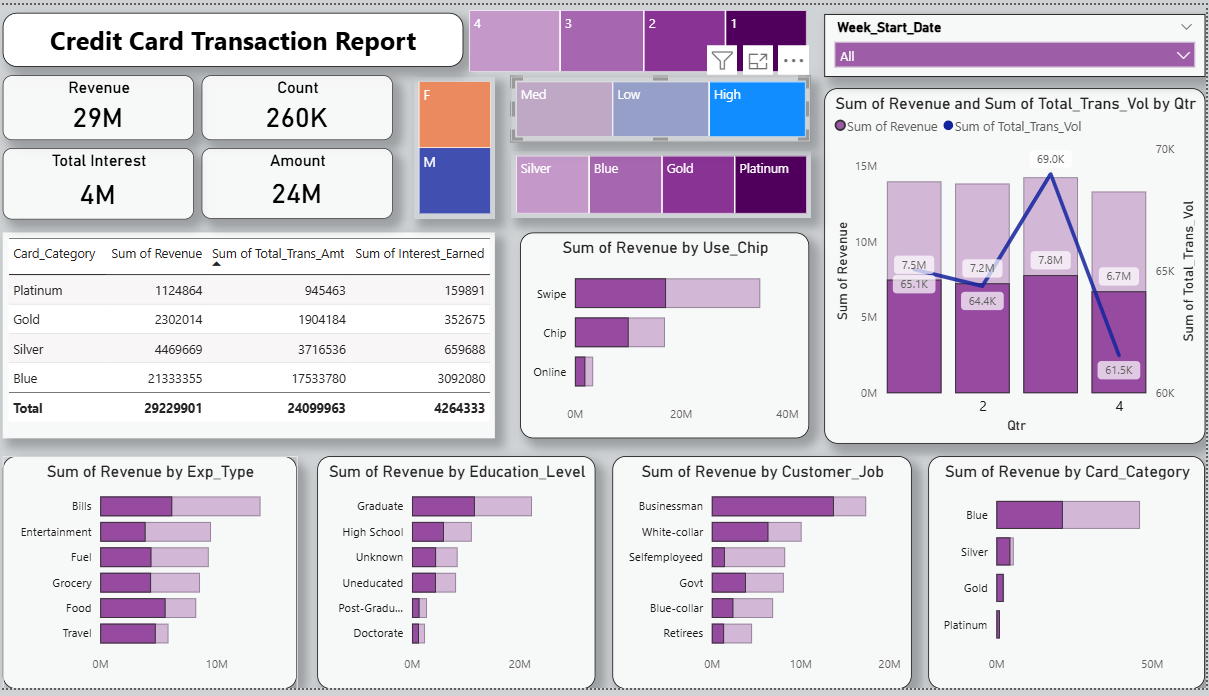

What the dashboard file says about the page in this screenshot:
{"tool":"powerbi","page":{"name":"Custmer1","canvas":[1280,720],"ordinal":0},"visuals":[{"type":"textbox","box":[12.9,8.6,485.7,57.1],"z":0},{"type":"lineStackedColumnComboChart","fields":{"Y":["Sum(credit_card_detail.Revenue)"],"Y2":["Sum(credit_card_detail.Total_Trans_Vol)"],"Category":["credit_card_detail.Qtr"]},"box":[878.1,87.8,401.6,374.5],"z":1000},{"type":"barChart","fields":{"Y":["Sum(credit_card_detail.Revenue)"],"Category":["credit_card_detail.Exp_Type"]},"box":[12.9,475.2,309.9,245.3],"z":2000},{"type":"barChart","fields":{"Y":["Sum(credit_card_detail.Revenue)"],"Category":["customer_detail.Education_Level"]},"box":[343.5,475.2,293.1,245.3],"z":3000},{"type":"barChart","fields":{"Y":["Sum(credit_card_detail.Revenue)"],"Category":["customer_detail.Customer_Job"]},"box":[654.7,475.2,315.1,245.3],"z":4000},{"type":"barChart","fields":{"Y":["Sum(credit_card_detail.Revenue)"],"Category":["credit_card_detail.Card_Category"]},"box":[987.8,475.2,291.8,245.3],"z":5000},{"type":"barChart","fields":{"Y":["Sum(credit_card_detail.Revenue)"],"Category":["credit_card_detail.Use_Chip"]},"box":[557.8,240.2,304.7,216.9],"z":6000},{"type":"tableEx","fields":{"Values":["credit_card_detail.Card_Category","Sum(credit_card_detail.Revenue)","Sum(credit_card_detail.Total_Trans_Amt)","Sum(credit_card_detail.Interest_Earned)"]},"box":[12.9,240,518.6,217.1],"z":7000},{"type":"slicer","fields":{"Values":["credit_card_detail.Week_Start_Date"]},"box":[878.1,9,401.6,65.9],"z":8000},{"type":"treemap","fields":{"Group":["credit_card_detail.Qtr"],"Values":["Avg(credit_card_detail.Client_Num)"]},"box":[498.4,0,365.4,74.9],"z":9000},{"type":"treemap","fields":{"Group":["customer_detail.Gender"],"Values":["Avg(credit_card_detail.Client_Num)"]},"box":[445.5,74.9,86.5,149.8],"z":10000},{"type":"treemap","fields":{"Group":["credit_card_detail.Card_Category"],"Values":["Avg(credit_card_detail.Client_Num)"]},"box":[547.5,153.7,316.4,71],"z":11000},{"type":"treemap","fields":{"Group":["customer_detail.IncomeGroup"],"Values":["Avg(credit_card_detail.Client_Num)"]},"box":[547.5,74.9,315.1,68.4],"z":12000},{"type":"card","title":"Revenue","fields":{"Values":["Sum(credit_card_detail.Revenue)"]},"box":[12.9,74.3,201.4,68.6],"z":13000},{"type":"card","title":"Total Interest","fields":{"Values":["Sum(credit_card_detail.Interest_Earned)"]},"box":[12.9,150,201.4,75.7],"z":14000},{"type":"card","title":"Count","fields":{"Values":["Sum(credit_card_detail.Total_Trans_Vol)"]},"box":[221.4,74.3,201.4,68.6],"z":15000},{"type":"card","title":"Amount","fields":{"Values":["Sum(credit_card_detail.Total_Trans_Amt)"]},"box":[221.4,150,201.4,74.3],"z":16000}]}

Visuals, with their boxes in screenshot pixels (x1, y1, x2, y2), scaled from the page's 1280x720 canvas onto the 1209x696 screenshot:
textbox: bbox=[12, 8, 471, 64]
lineStackedColumnComboChart - Sum(credit_card_detail.Revenue) x Sum(credit_card_detail.Total_Trans_Vol): bbox=[829, 85, 1208, 447]
barChart - Sum(credit_card_detail.Revenue) x credit_card_detail.Exp_Type: bbox=[12, 459, 305, 695]
barChart - Sum(credit_card_detail.Revenue) x customer_detail.Education_Level: bbox=[324, 459, 601, 695]
barChart - Sum(credit_card_detail.Revenue) x customer_detail.Customer_Job: bbox=[618, 459, 916, 695]
barChart - Sum(credit_card_detail.Revenue) x credit_card_detail.Card_Category: bbox=[933, 459, 1208, 695]
barChart - Sum(credit_card_detail.Revenue) x credit_card_detail.Use_Chip: bbox=[527, 232, 815, 442]
tableEx - credit_card_detail.Card_Category x Sum(credit_card_detail.Revenue): bbox=[12, 232, 502, 442]
slicer - credit_card_detail.Week_Start_Date: bbox=[829, 9, 1208, 72]
treemap - credit_card_detail.Qtr x Avg(credit_card_detail.Client_Num): bbox=[471, 0, 816, 72]
treemap - customer_detail.Gender x Avg(credit_card_detail.Client_Num): bbox=[421, 72, 502, 217]
treemap - credit_card_detail.Card_Category x Avg(credit_card_detail.Client_Num): bbox=[517, 149, 816, 217]
treemap - customer_detail.IncomeGroup x Avg(credit_card_detail.Client_Num): bbox=[517, 72, 815, 139]
"Revenue" card: bbox=[12, 72, 202, 138]
"Total Interest" card: bbox=[12, 145, 202, 218]
"Count" card: bbox=[209, 72, 399, 138]
"Amount" card: bbox=[209, 145, 399, 217]
